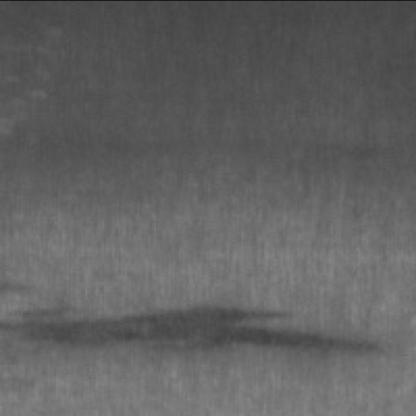inclusion: (0, 299, 370, 370)
